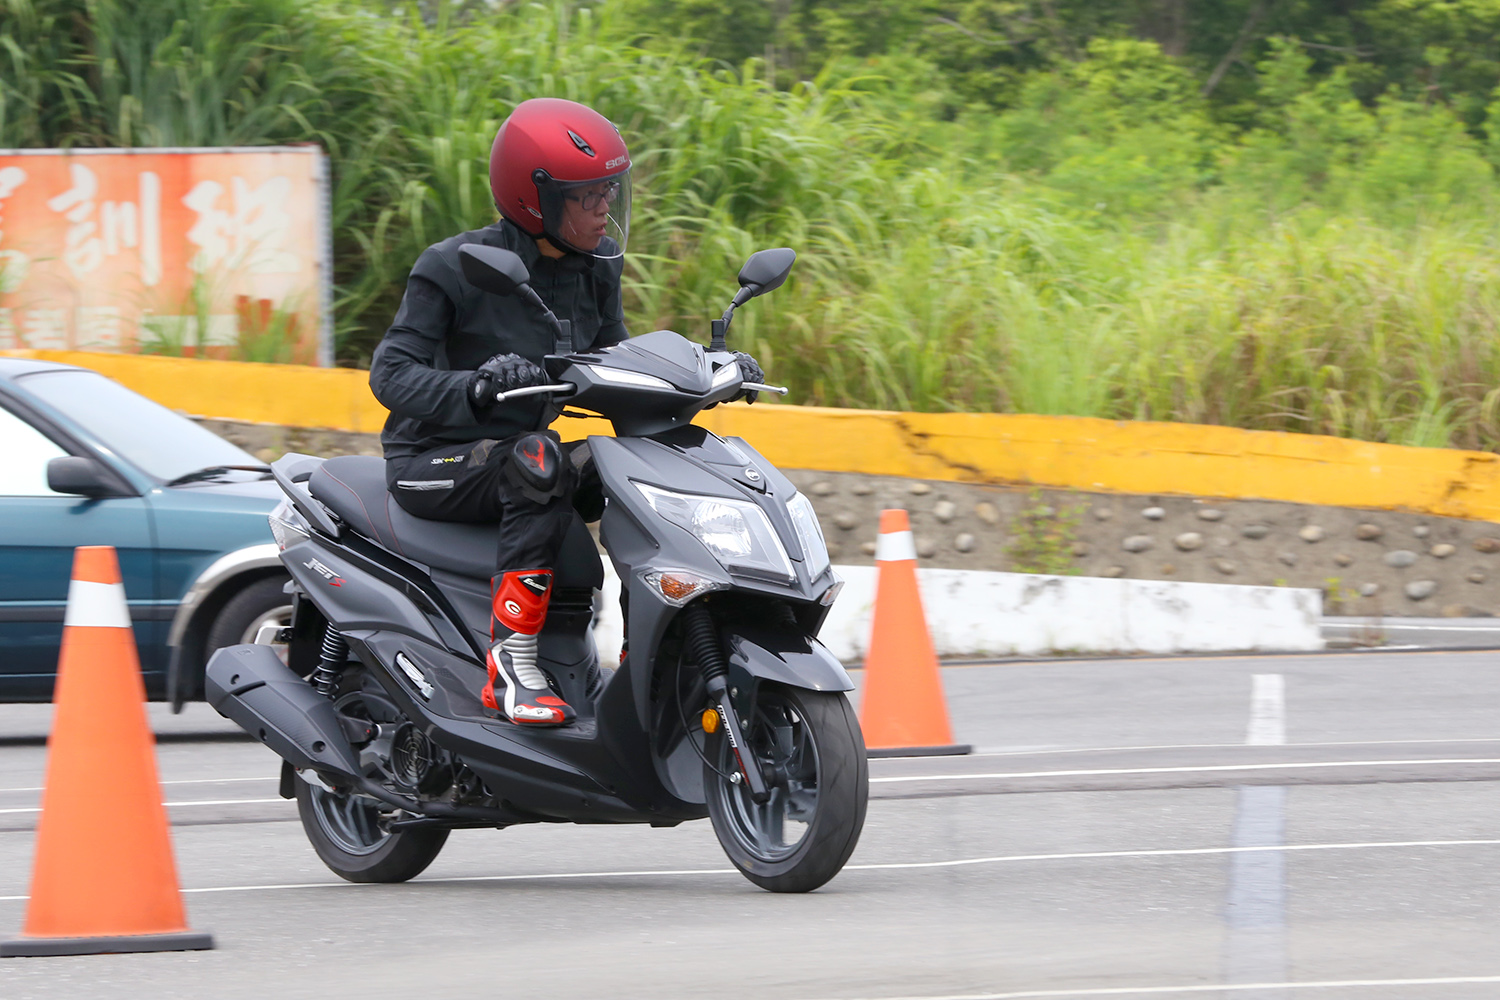helmet: (482, 107, 651, 251)
